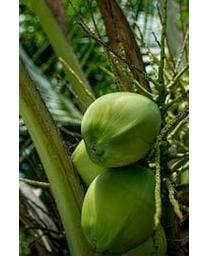coconut: (80, 166, 162, 253), (80, 87, 163, 166)
